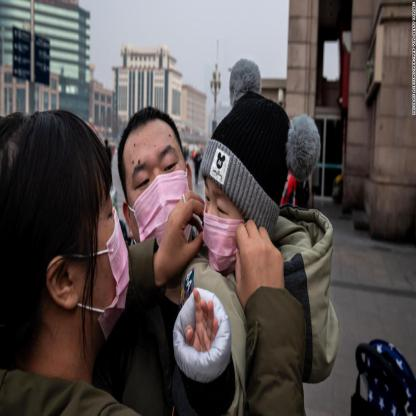Wearing_Mask: (78, 197, 130, 340), (126, 142, 189, 259), (203, 179, 244, 271)
